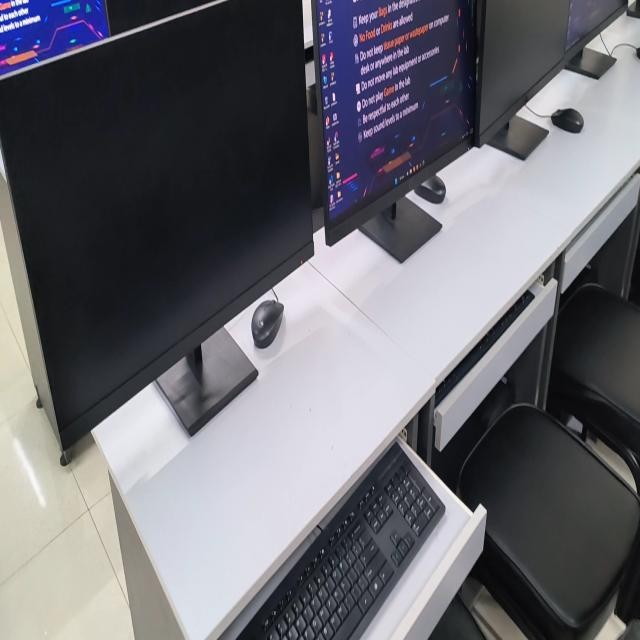Chair: (458, 404, 640, 639), (548, 286, 640, 462), (429, 595, 485, 639)
Cpu: (433, 378, 514, 489)
Keyboard: (237, 443, 445, 639), (435, 289, 534, 408)
Monitor: (0, 0, 313, 447), (313, 0, 476, 263), (476, 0, 569, 159), (0, 0, 110, 76), (566, 0, 627, 78), (106, 0, 212, 35)
Mouse: (251, 300, 284, 348), (415, 175, 446, 204), (551, 108, 584, 133)
